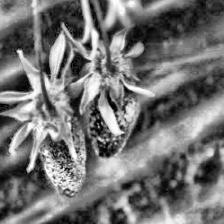Gray Mold: (0, 30, 91, 200), (63, 24, 153, 160)
